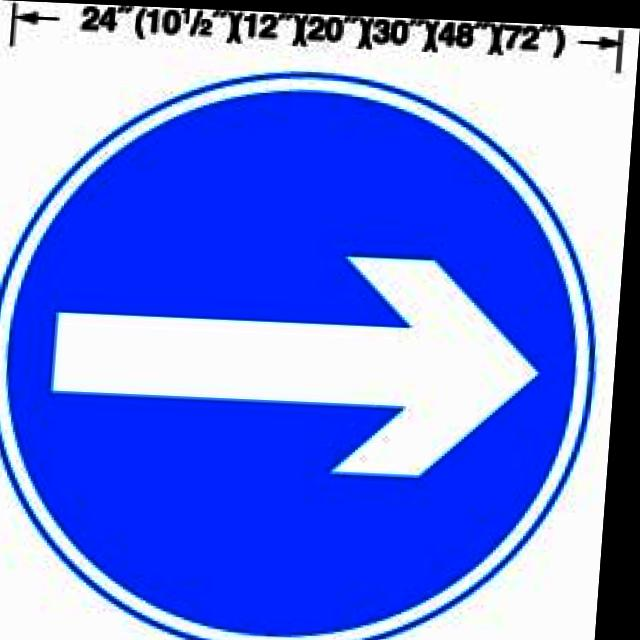COMPULSARY_TURN_RIGHT: (0, 52, 625, 640)
